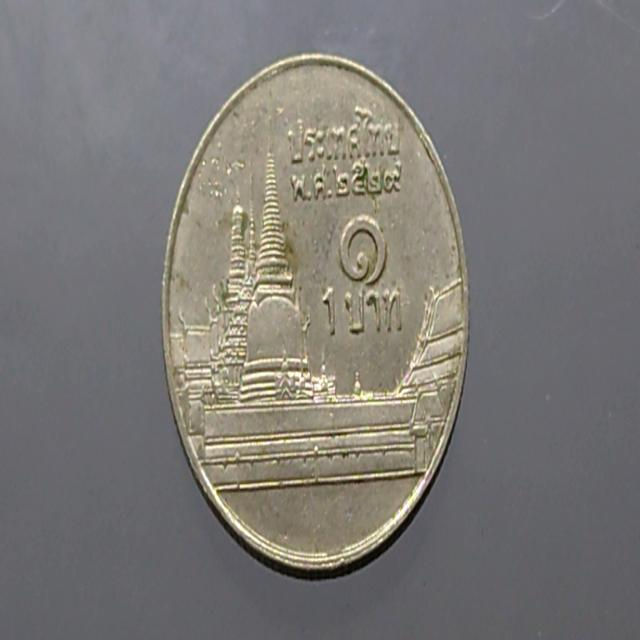1 Bath: (155, 32, 486, 598)
